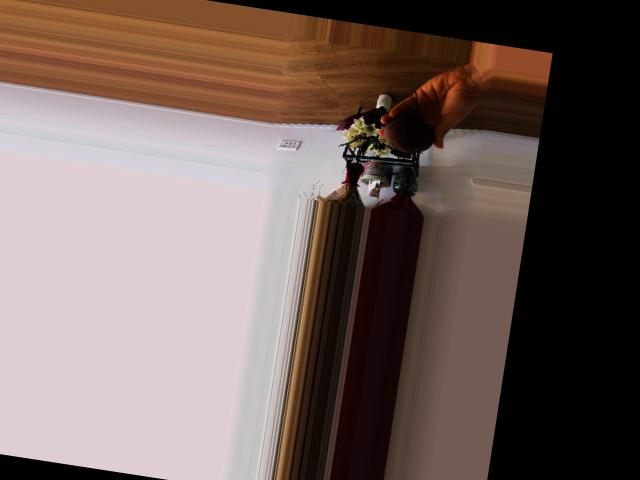beet: (379, 85, 440, 161)
